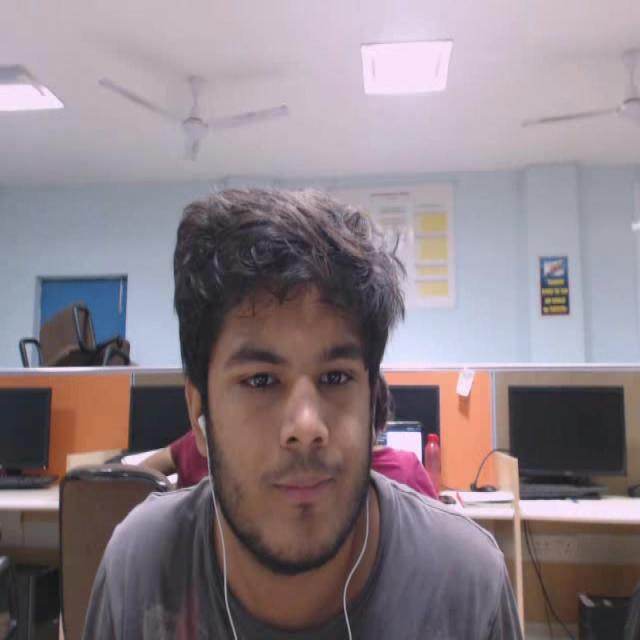Engaged: (159, 170, 429, 606)
